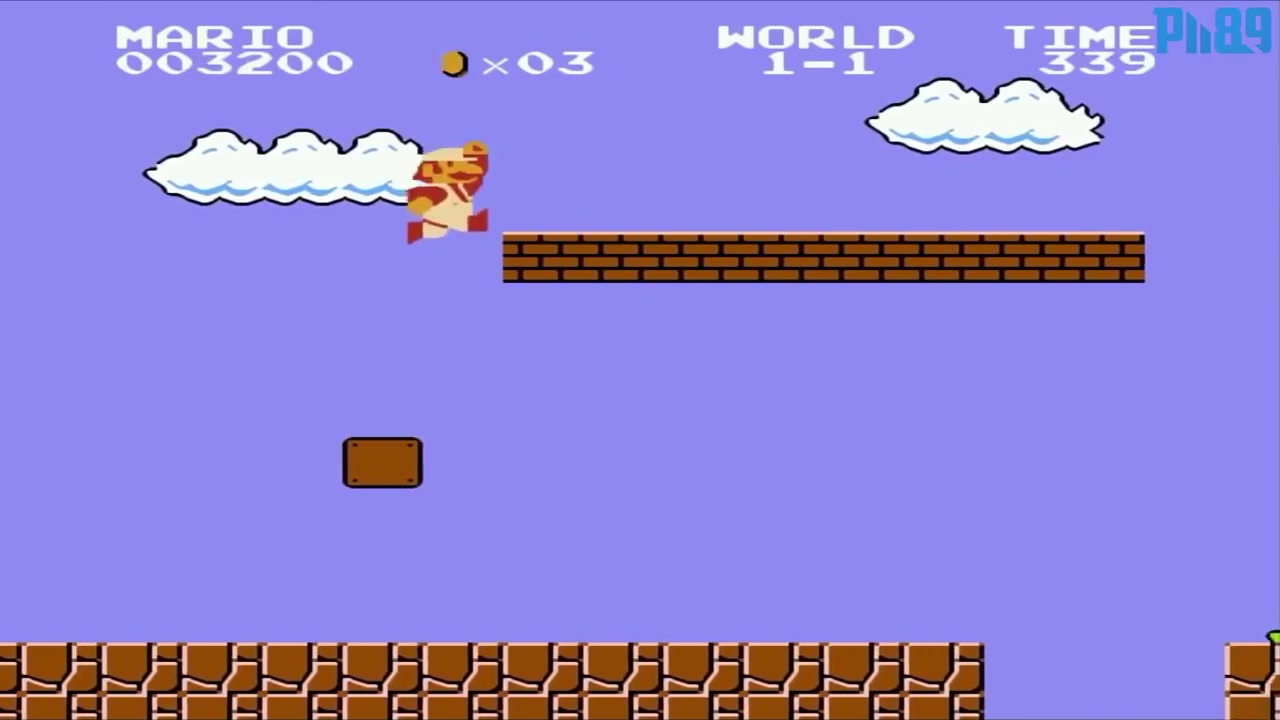mario: (409, 143, 488, 257)
